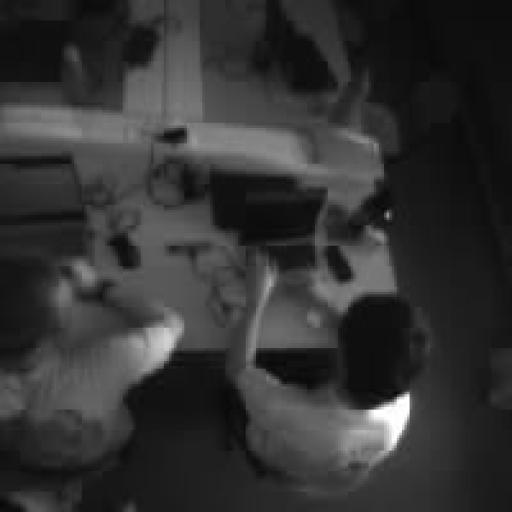human: (226, 254, 430, 496), (0, 254, 184, 471)
